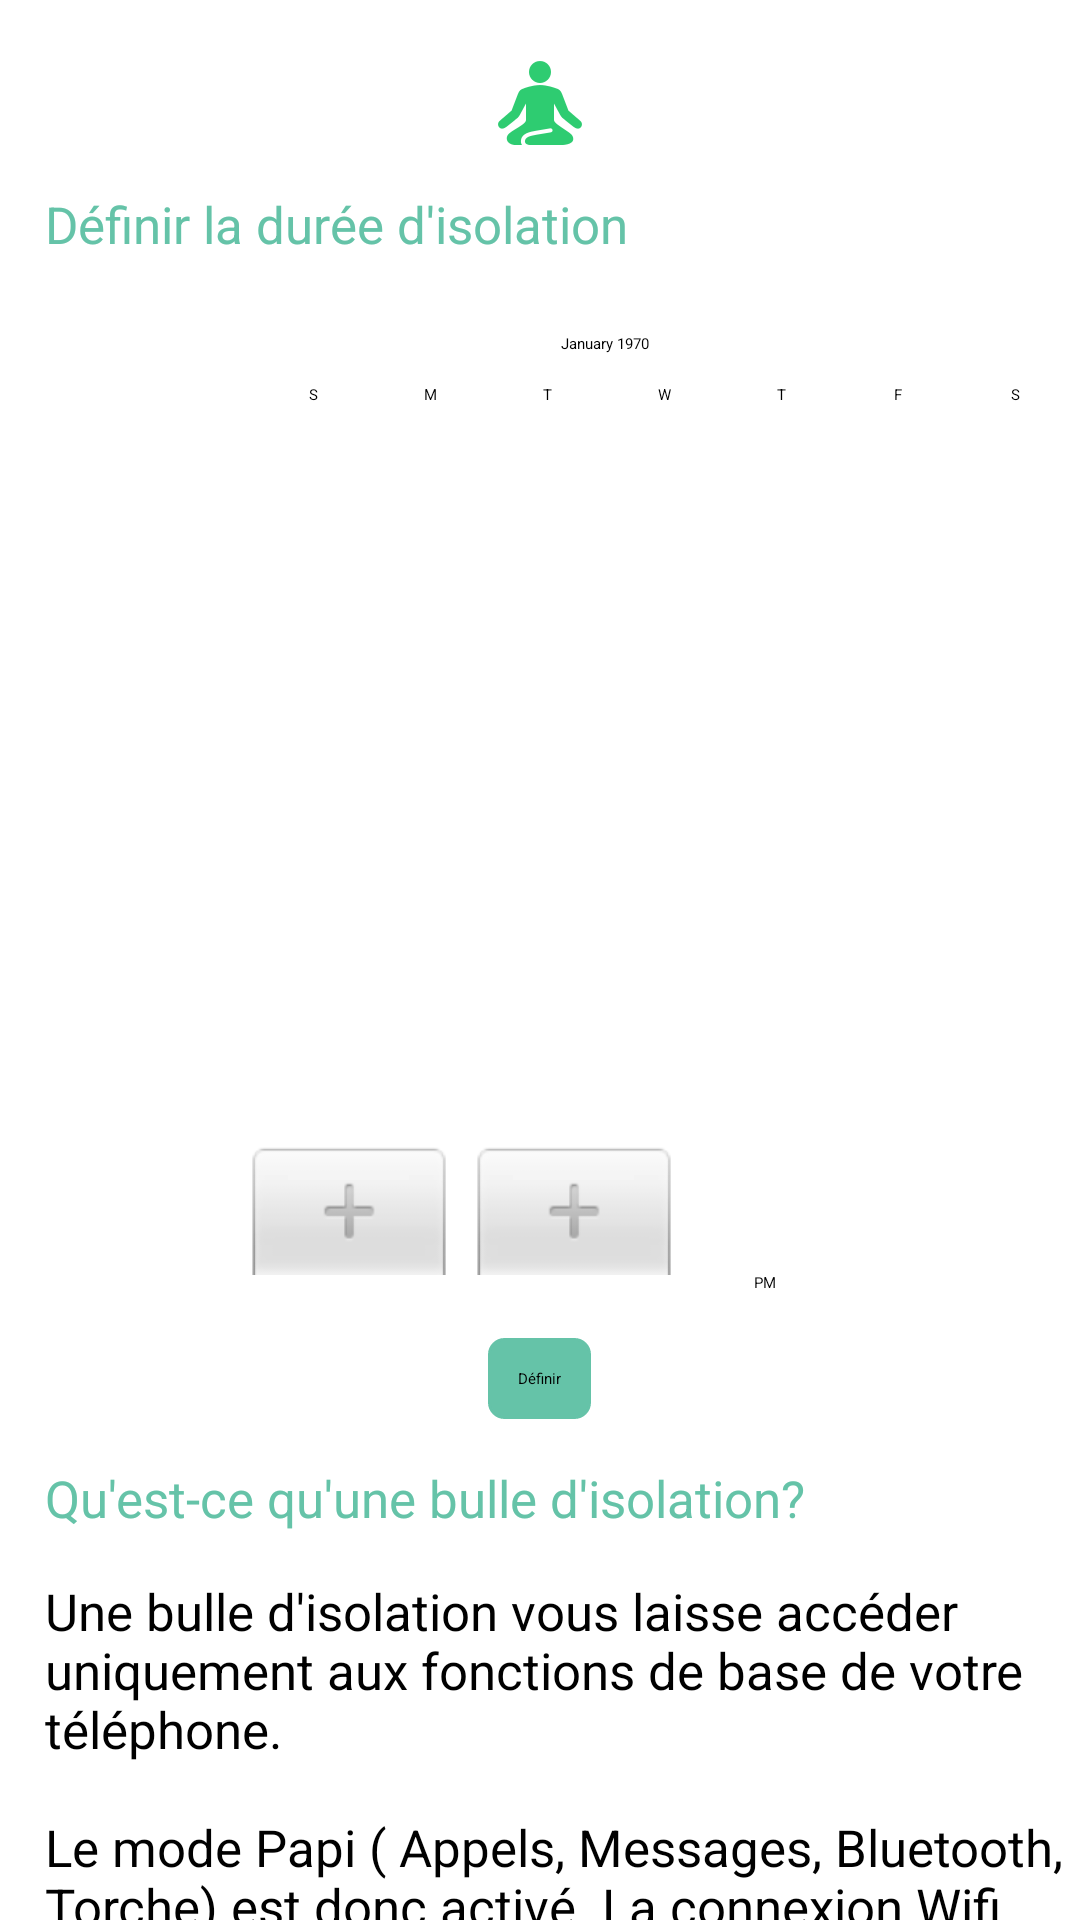

Icon bounding boxes for this 1080 × 1920 phone screenshot, format (x1, y1, x2, y2):
zen: (498, 61, 582, 145)
